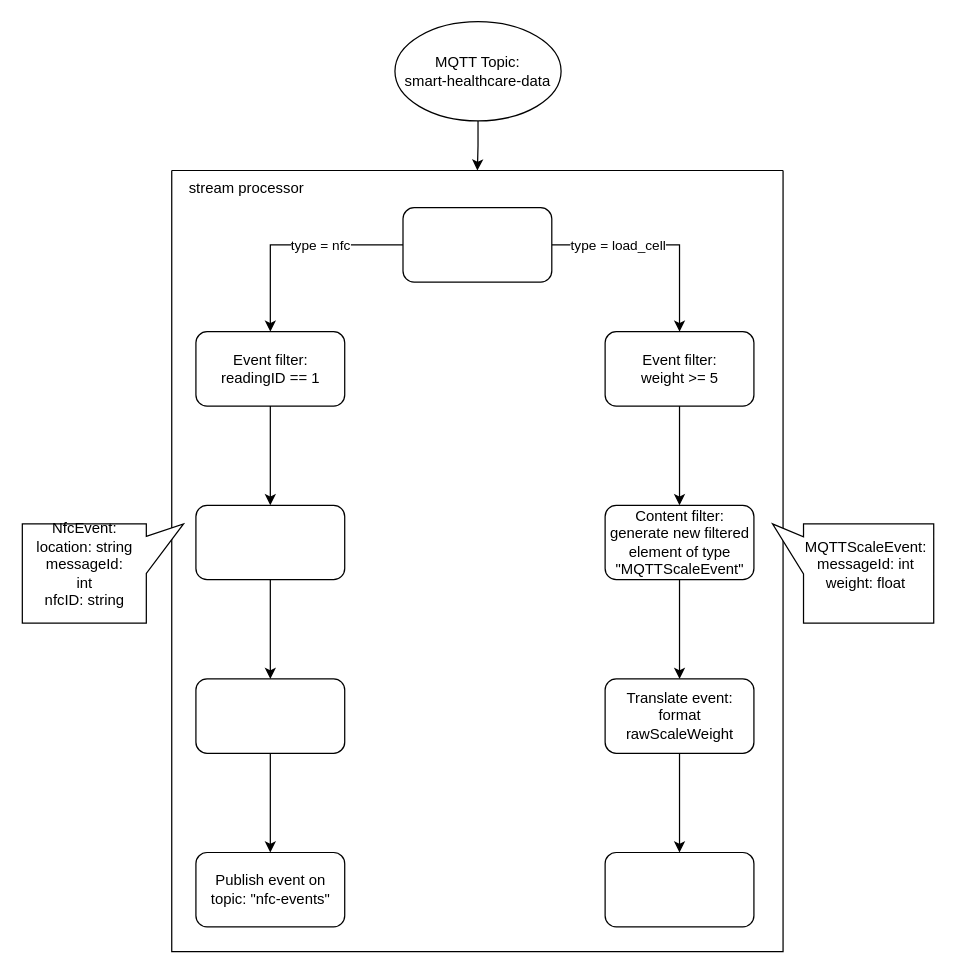
The diagram is 955 pixels wide and 973 high, and some of its shapes have lost their labels. Each missing label, with the box of its shape:
Content filter: generate new filtered element of type "NfcEvent": (195, 504, 345, 580)
Publish event on topic: "scale-events: (604, 851, 754, 927)
Raw Data input Branch splitting: (402, 206, 552, 282)
Translate event: format rawNfcId: (195, 678, 345, 753)
